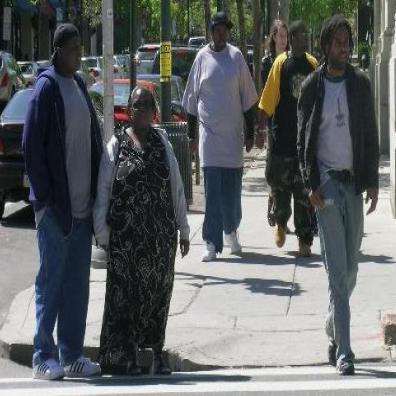ped: (300, 14, 381, 373), (24, 23, 104, 378), (95, 84, 191, 375), (183, 12, 260, 259), (259, 21, 321, 256)
